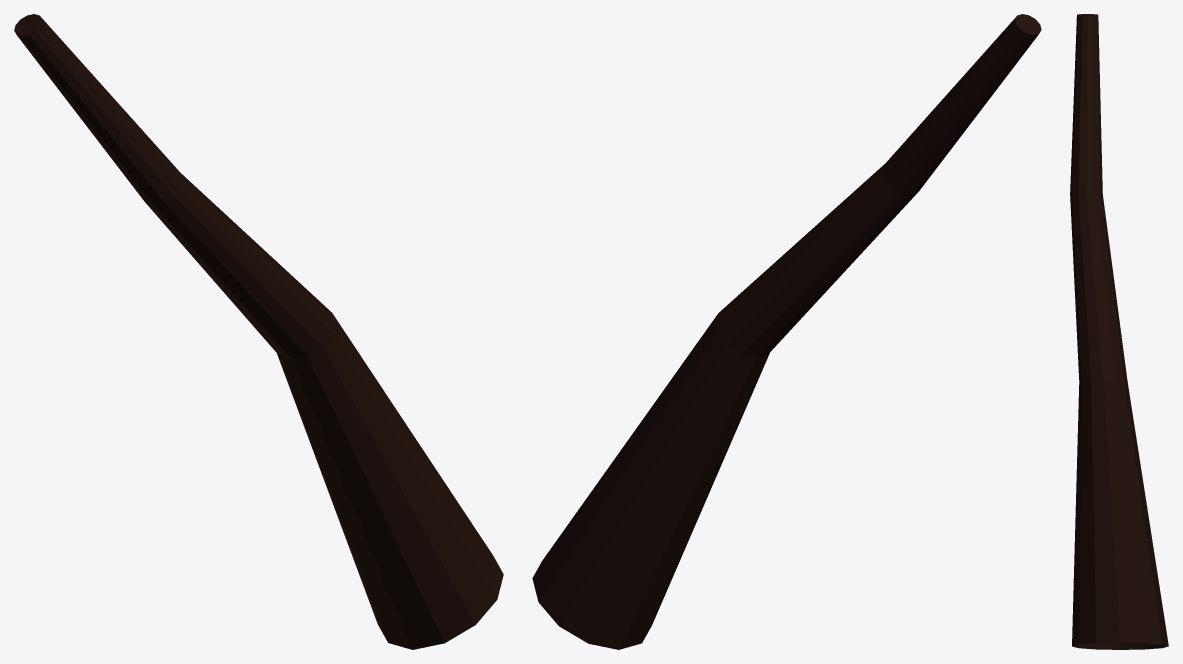
File: canh2.obj
The picture shows the model from 3 angles, left to right: view 1: azimuth 30°, elevation 25°; view 2: azimuth 150°, elevation 25°; view 3: azimuth 270°, elevation 25°; orthographic projection. The views are drawn at different scales.
Parts seen in each view (by area): view 1: Cylinder.002_Cylinder.005; view 2: Cylinder.002_Cylinder.005; view 3: Cylinder.002_Cylinder.005.
Boxes of the visible parts, x1=… form: Cylinder.002_Cylinder.005: x1=14, y1=14, x2=503, y2=649; Cylinder.002_Cylinder.005: x1=532, y1=14, x2=1041, y2=649; Cylinder.002_Cylinder.005: x1=1070, y1=14, x2=1168, y2=649.
Bounding box in the file's own units: 2.36 × 3.31 × 0.5811.
